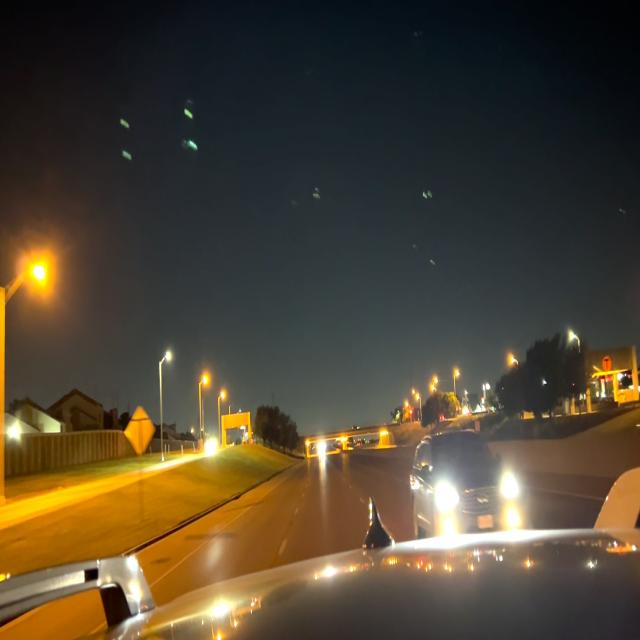back-of-sign: (126, 408, 154, 458)
